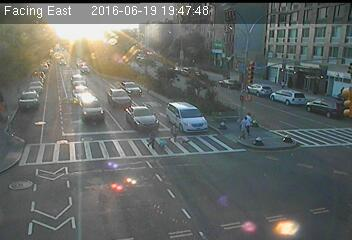neg: (285, 159, 307, 188), (66, 91, 85, 117), (175, 56, 193, 80), (309, 107, 327, 131), (64, 172, 79, 192), (306, 67, 319, 84), (89, 156, 102, 173), (237, 61, 249, 78), (122, 71, 134, 87), (160, 193, 172, 209), (228, 188, 239, 202), (105, 193, 114, 204)
pos: (143, 122, 163, 149), (239, 111, 259, 137), (234, 116, 253, 141), (165, 120, 182, 143), (278, 76, 289, 91)
